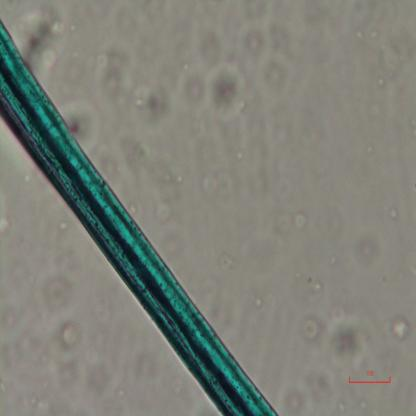Background material: (121, 126, 188, 202), (24, 9, 66, 69), (322, 312, 366, 368), (98, 48, 131, 114), (210, 62, 245, 118), (232, 16, 277, 56), (134, 79, 174, 123), (65, 104, 99, 149), (40, 276, 73, 312), (355, 224, 378, 267), (4, 334, 32, 369), (298, 314, 321, 346), (86, 364, 108, 396), (86, 292, 111, 320), (58, 324, 84, 350), (148, 201, 174, 225), (200, 168, 220, 198), (350, 24, 382, 42), (308, 370, 326, 399), (386, 198, 404, 226), (392, 316, 410, 343), (292, 209, 309, 233), (214, 253, 236, 271), (0, 212, 13, 236), (307, 278, 323, 294), (56, 218, 68, 233), (256, 296, 262, 309)
Microfibre: (0, 20, 280, 415)
